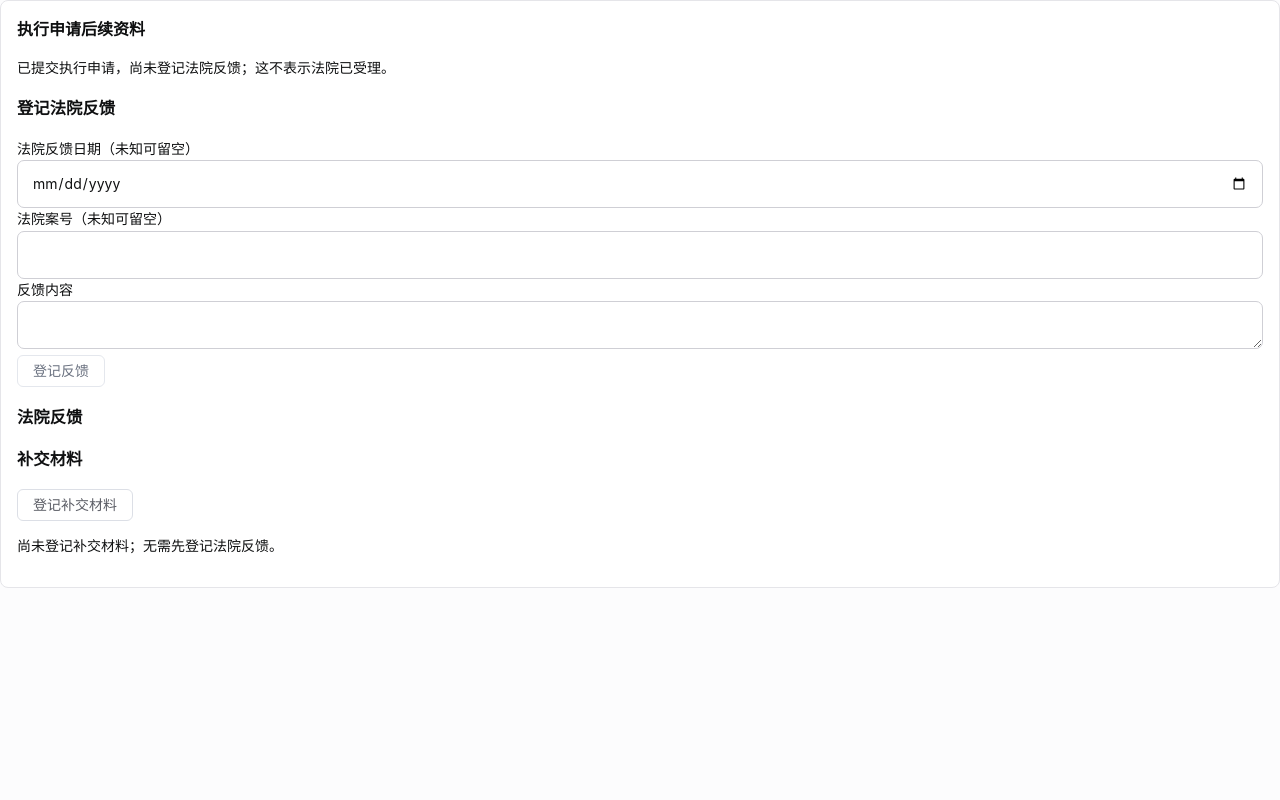
Test: execution filing followup panel › clears a deterministic revision conflict and waits for a refreshed snapshot
Type "真实反馈" into the text box with test id "followup-content". click: (640, 325)
box: [17,301,1263,349]
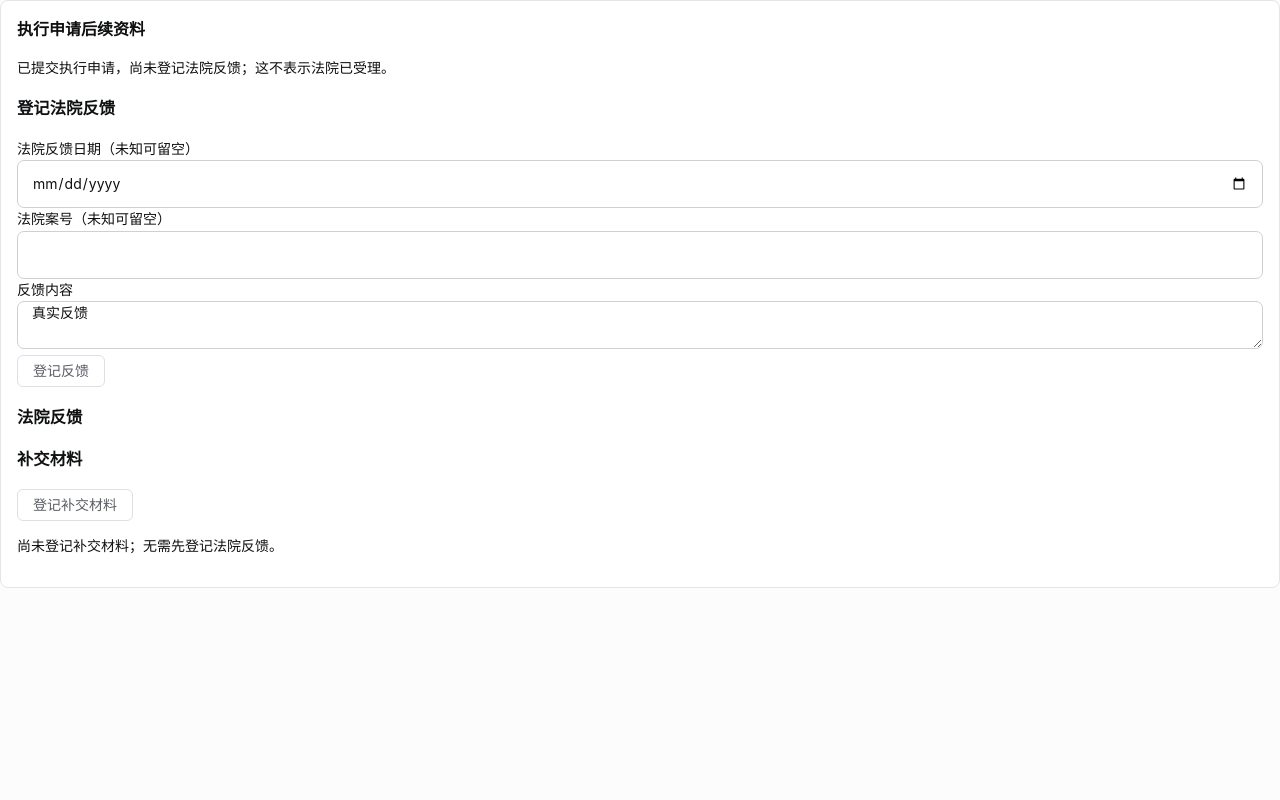
Click the button with test id "followup-submit". click: (61, 372)
box: [17,356,105,388]
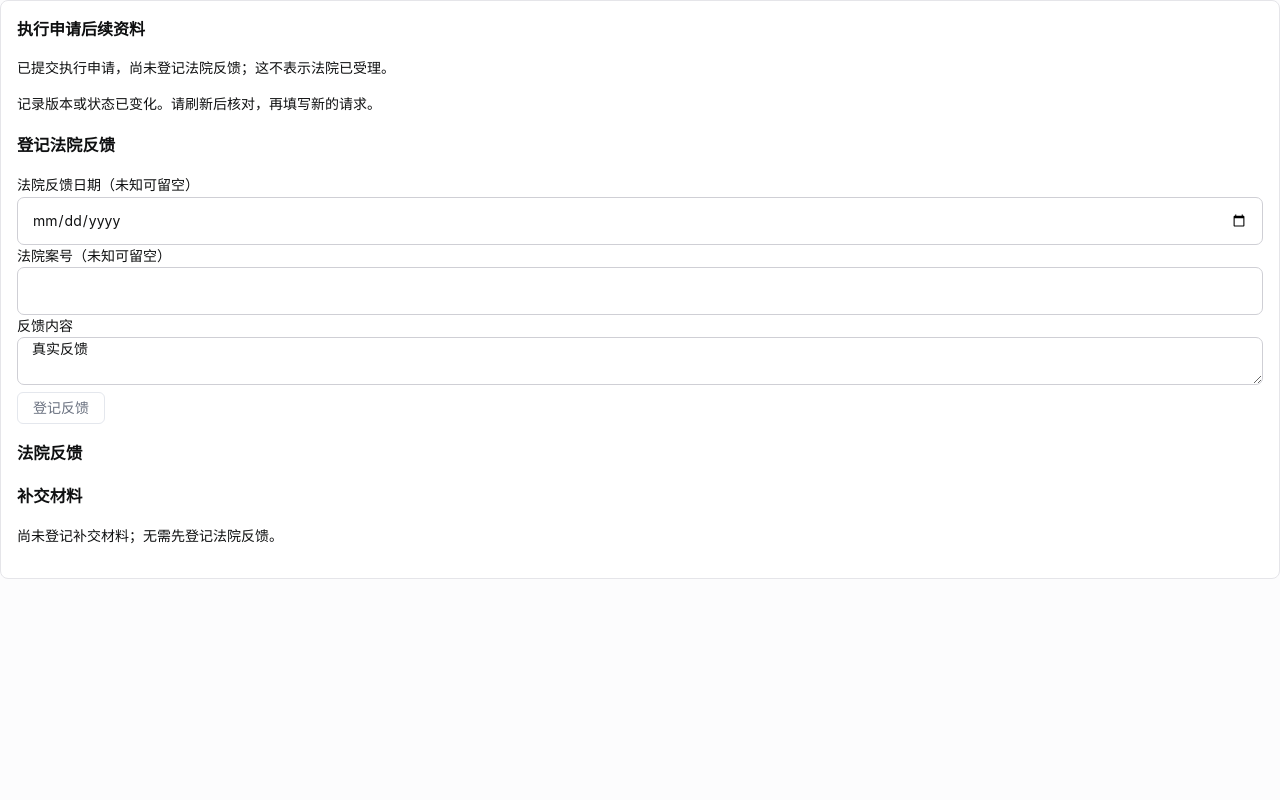
Result: the text "记录版本或状态已变化" is shown at [17,95,381,112]
Result: the button with test id "followup-submit" is disabled at [17,392,105,424]
